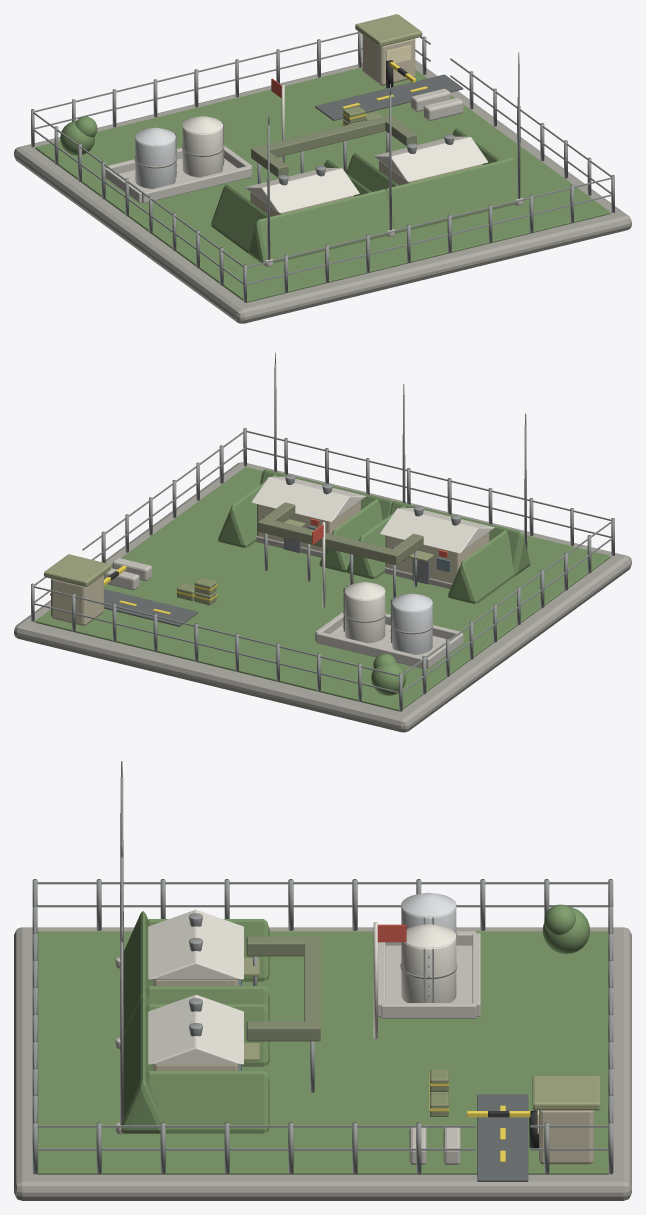
The model's file is tnt_4.glb.
3 views of the same model, one above another, from view 1: azimuth 30°, elevation 25°; view 2: azimuth 150°, elevation 25°; view 3: azimuth 270°, elevation 25° (orthographic). The views are drawn at different scales.
Parts seen in each view (by area): view 1: Cube.001, Cube, prism, prism.004, prism.007, prism.003, Cube.002, prism.001, Cube.029, Cylinder.013, Cylinder.015, Cube.006 (+18 smaller); view 2: Cube.001, Cube, prism.001, prism.007, prism.003, Cube.029, Cube.006, Cylinder.015, Cylinder.013, prism.006, prism.005, Cube.002 (+19 smaller); view 3: Cube.001, Cube, prism.006, prism.007, prism.003, Cube.002, prism.004, Cylinder.015, Cube.006, Cube.007, prism, Cube.031 (+19 smaller).
Boxes of the visible parts, left/top/right/bottom form: Cube.001: left=35, top=67, right=610, bottom=302; Cube: left=14, top=60, right=631, bottom=323; prism: left=248, top=189, right=393, bottom=264; prism.004: left=386, top=158, right=523, bottom=233; prism.007: left=373, top=136, right=487, bottom=181; prism.003: left=245, top=168, right=359, bottom=212; Cube.002: left=315, top=74, right=463, bottom=120; prism.001: left=211, top=184, right=270, bottom=253; Cube.029: left=253, top=116, right=394, bottom=157; Cylinder.013: left=135, top=139, right=175, bottom=188; Cylinder.015: left=182, top=127, right=222, bottom=177; Cube.006: left=362, top=34, right=415, bottom=85; Cube.001: left=35, top=467, right=610, bottom=711; Cube: left=14, top=462, right=631, bottom=732; prism.001: left=448, top=530, right=514, bottom=603; prism.007: left=251, top=476, right=366, bottom=521; prism.003: left=380, top=508, right=494, bottom=553; Cube.029: left=258, top=520, right=396, bottom=564; Cube.006: left=51, top=575, right=103, bottom=625; Cylinder.015: left=345, top=593, right=385, bottom=643; Cylinder.013: left=392, top=604, right=432, bottom=654; prism.006: left=218, top=474, right=277, bottom=547; prism.005: left=319, top=499, right=382, bottom=572; Cube.002: left=50, top=589, right=198, bottom=626; Cube.001: left=37, top=931, right=608, bottom=1174; Cube: left=14, top=927, right=631, bottom=1200; prism.006: left=146, top=1071, right=269, bottom=1133; prism.007: left=148, top=994, right=243, bottom=1064; prism.003: left=148, top=909, right=243, bottom=979; Cube.002: left=477, top=1094, right=528, bottom=1181; prism.004: left=120, top=996, right=162, bottom=1133; Cylinder.015: left=401, top=938, right=456, bottom=1002; Cube.006: left=539, top=1110, right=593, bottom=1164; Cube.007: left=532, top=1075, right=600, bottom=1110; prism: left=120, top=911, right=153, bottom=1035; Cube.031: left=385, top=945, right=472, bottom=1002.
Size of the model in its own units: 2.92 by 1.18 by 2.92.
